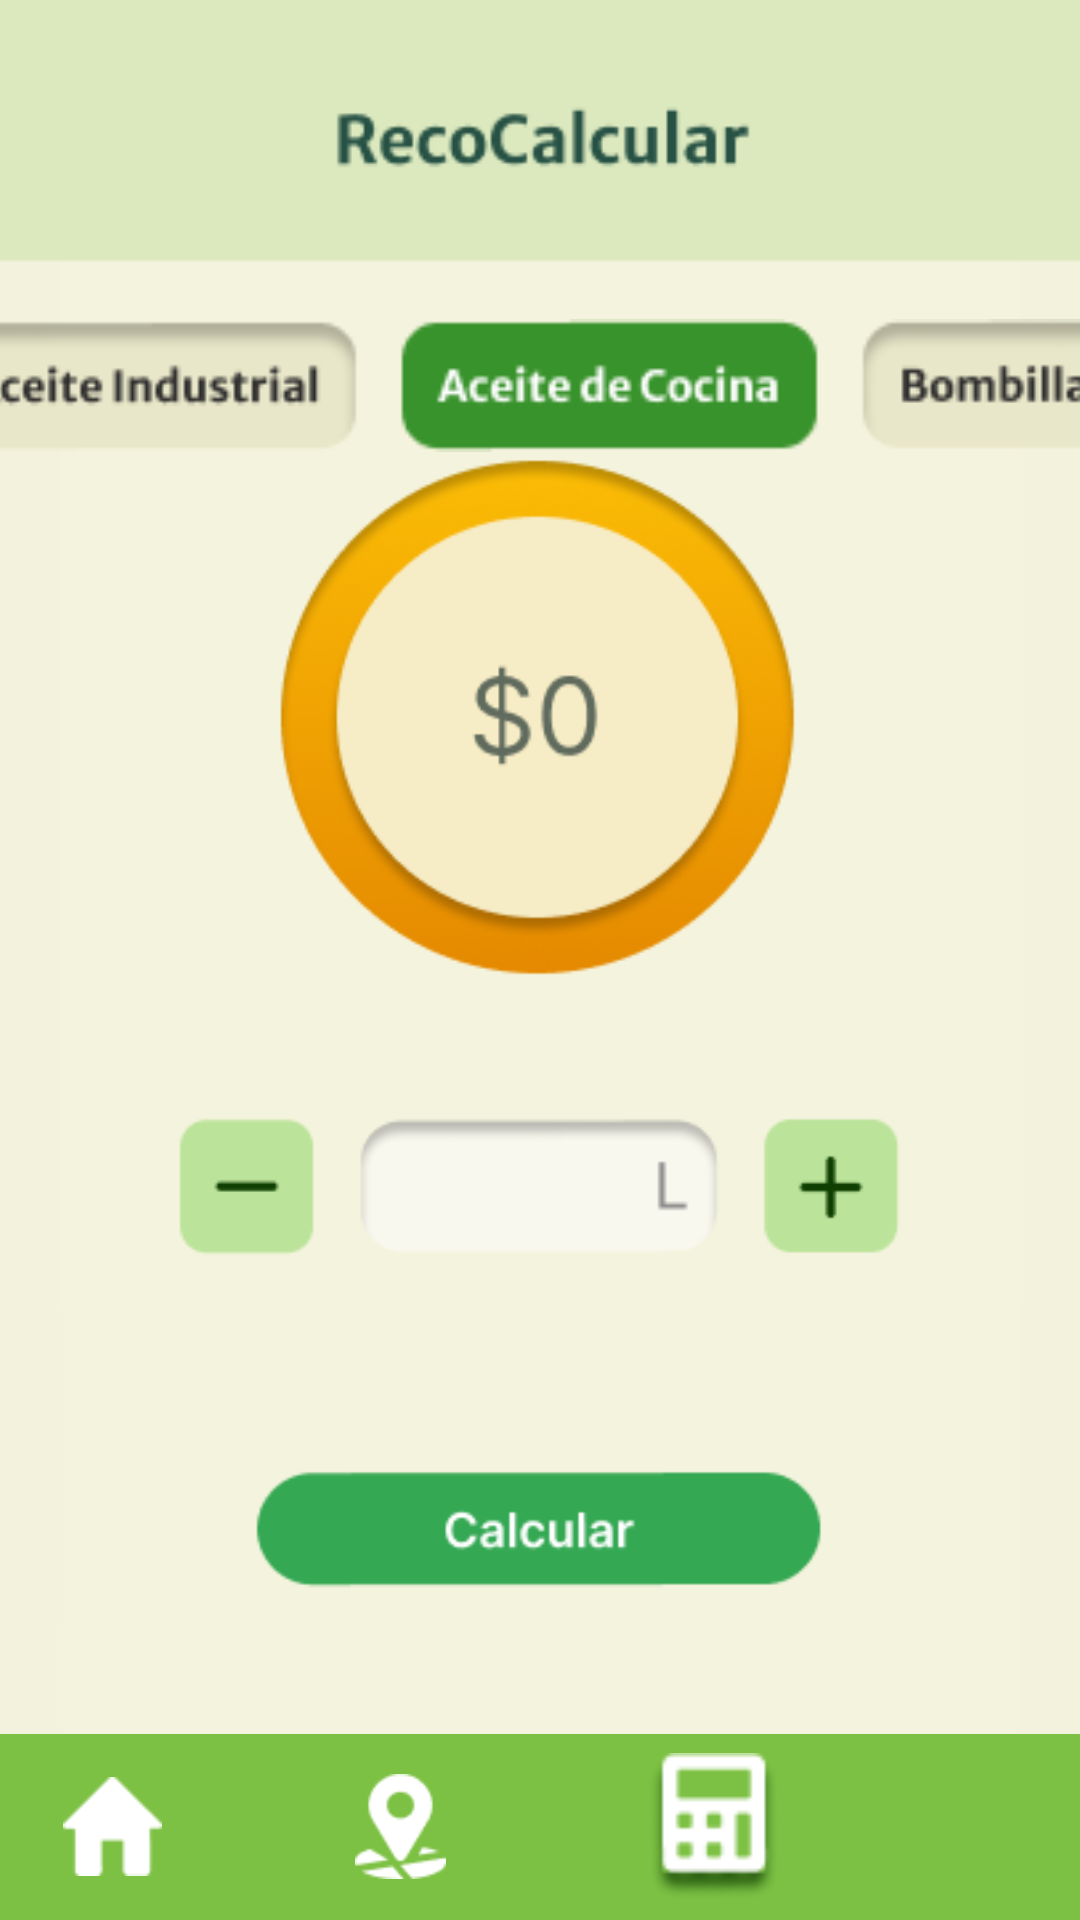

Named icons in this screenshot (1080×1920) and their bounding boxes, (x1, y1, x2, y2):
calculator: (658, 1753, 770, 1890)
